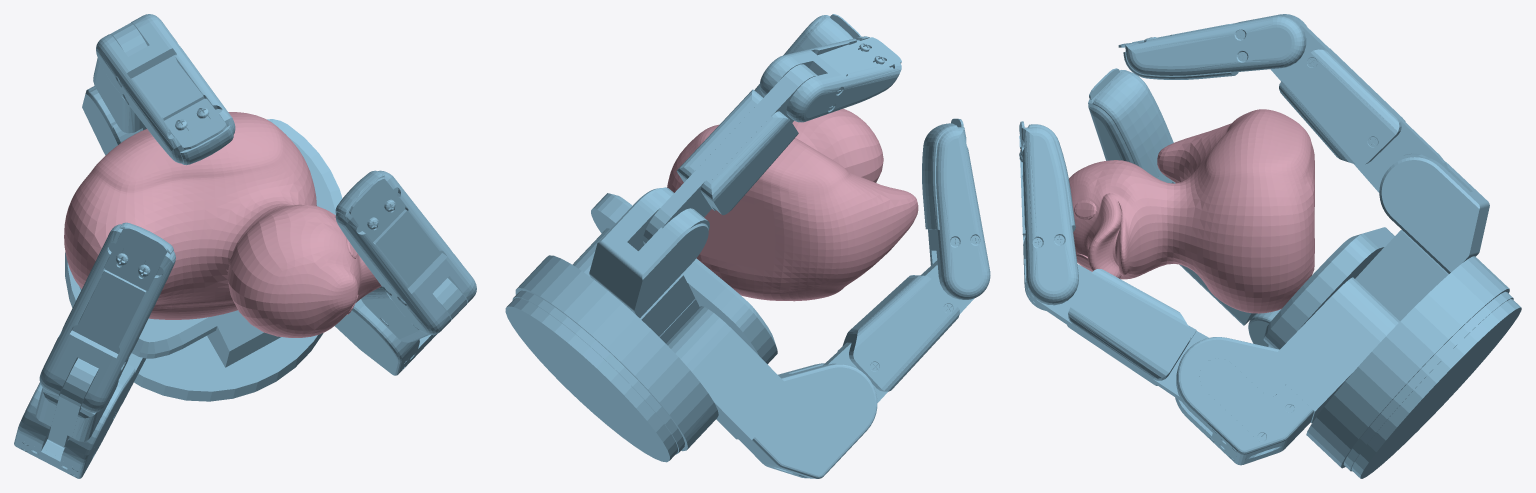
The picture shows the model from 3 angles, left to right: view 1: azimuth 30°, elevation 25°; view 2: azimuth 150°, elevation 25°; view 3: azimuth 270°, elevation 25°; orthographic projection. The views are drawn at different scales.
Parts seen in each view (by area): view 1: world, rubber_duck.stl; view 2: world, rubber_duck.stl; view 3: world, rubber_duck.stl.
Part boxes in pixels (<box>): world: <box>14,14,476,478</box>; rubber_duck.stl: <box>64,112,381,337</box>; world: <box>505,14,990,478</box>; rubber_duck.stl: <box>667,108,918,301</box>; world: <box>1019,14,1521,478</box>; rubber_duck.stl: <box>1069,109,1314,313</box>.
Size of the model in its own units: 0.1662 by 0.1657 by 0.1817.
